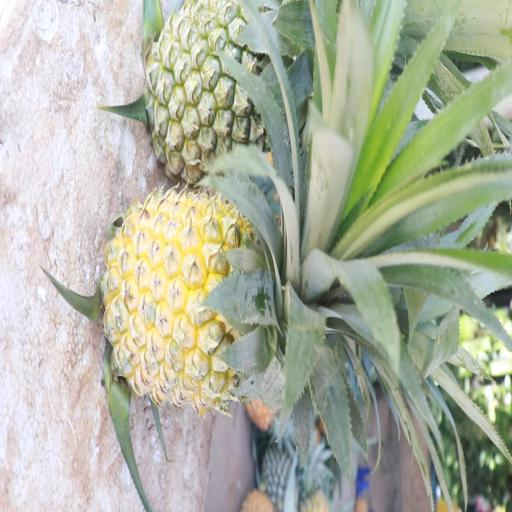------------------------------: (145, 0, 335, 176)
Pineapple - v8 v1: (111, 192, 332, 402)
